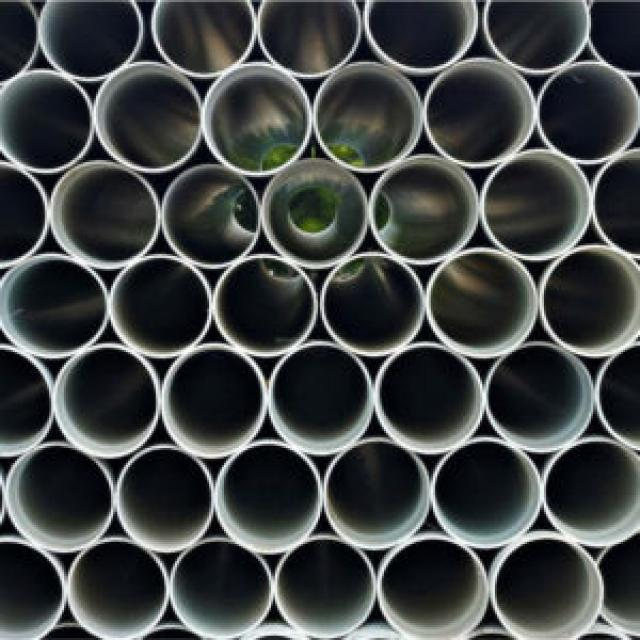pipe: (482, 149, 593, 261), (203, 62, 312, 176), (426, 57, 537, 168), (433, 438, 543, 550), (428, 248, 539, 358), (491, 532, 604, 640), (376, 344, 485, 455), (53, 344, 159, 458), (162, 344, 267, 459), (314, 62, 423, 172), (370, 154, 479, 264), (216, 442, 322, 555), (5, 444, 113, 554), (269, 342, 373, 456), (94, 62, 201, 172), (262, 159, 368, 269), (325, 439, 430, 550), (379, 536, 489, 640), (50, 162, 156, 268), (488, 345, 593, 452), (541, 246, 640, 358), (0, 255, 107, 358), (213, 255, 318, 358), (321, 253, 425, 356), (117, 446, 213, 554), (275, 537, 376, 639), (110, 256, 210, 358), (162, 164, 260, 268), (171, 539, 272, 639), (546, 439, 640, 546), (68, 540, 168, 640), (541, 62, 640, 162), (0, 70, 90, 170)
